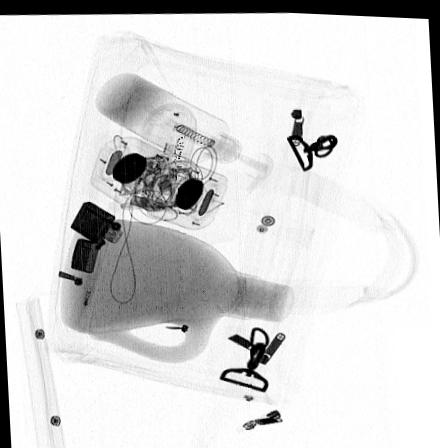Lighter: (69, 200, 123, 273)
